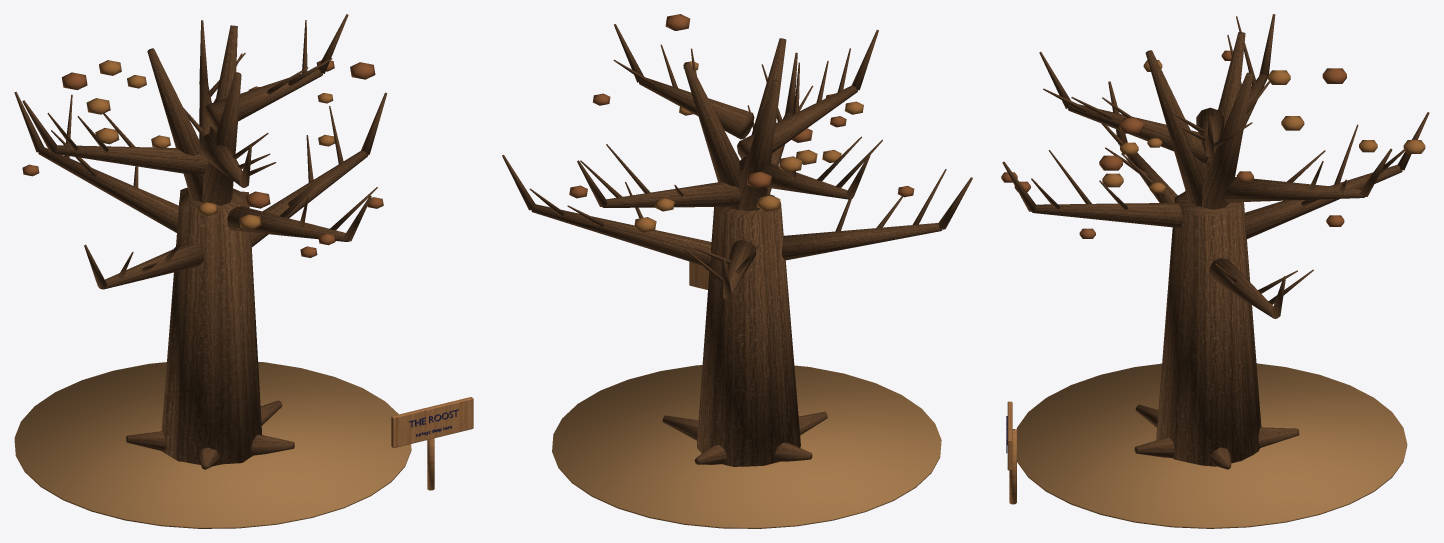
The model's file is roosttree.glb.
3 views of the same model, side by side, from view 1: azimuth 30°, elevation 25°; view 2: azimuth 150°, elevation 25°; view 3: azimuth 270°, elevation 25° (orthographic).
Parts seen in each view (by area): view 1: rt_litter, rt_trunk, rt_limb.001, rt_limb.005, rt_board, rt_leader.001, rt_leader.002, rt_limb.003, rt_limb.007, rt_limb.002, rt_limb, rt_limb.006 (+3 smaller); view 2: rt_litter, rt_trunk, rt_limb, rt_limb.002, rt_leader, rt_leader.001, rt_limb.004, rt_limb.006, rt_limb.007, rt_limb.005, rt_limb.001, rt_leader.002; view 3: rt_litter, rt_trunk, rt_leader.002, rt_leader, rt_limb.003, rt_limb.004, rt_limb.001, rt_limb.006, rt_limb, rt_leader.001, rt_limb.007, rt_limb.002 (+2 smaller).
Part boxes in pixels (x1,y1,x2,y2): rt_litter: (14,361,411,528); rt_trunk: (161,187,262,466); rt_limb.001: (38,147,178,232); rt_limb.005: (53,145,208,174); rt_board: (391,397,473,447); rt_leader.001: (147,48,204,202); rt_leader.002: (202,72,241,205); rt_limb.003: (227,205,348,241); rt_limb.007: (205,69,322,131); rt_limb.002: (102,243,203,289); rt_limb: (251,150,368,247); rt_limb.006: (199,132,244,187); rt_litter: (552,365,941,528); rt_trunk: (697,193,800,466); rt_limb: (531,204,711,266); rt_limb.002: (781,223,942,260); rt_leader: (683,62,740,209); rt_leader.001: (737,80,779,211); rt_limb.004: (602,182,740,207); rt_limb.006: (737,85,858,159); rt_limb.007: (639,78,754,139); rt_limb.005: (738,156,850,199); rt_limb.001: (724,239,755,299); rt_leader.002: (751,38,786,190); rt_litter: (1016,363,1407,528); rt_trunk: (1156,190,1261,466); rt_leader.002: (1145,50,1208,206); rt_leader: (1202,72,1253,209); rt_limb.003: (1032,202,1182,227); rt_limb.004: (1223,177,1364,202); rt_limb.001: (1245,164,1402,238); rt_limb.006: (1068,104,1208,163); rt_limb: (1209,258,1276,318); rt_leader.001: (1218,32,1245,134); rt_limb.007: (1196,107,1224,157); rt_limb.002: (1119,141,1177,202).
Bounding box in the file's own units: 7.27 × 7.36 × 6.95.
Materials: 6 (2 with a texture image).
